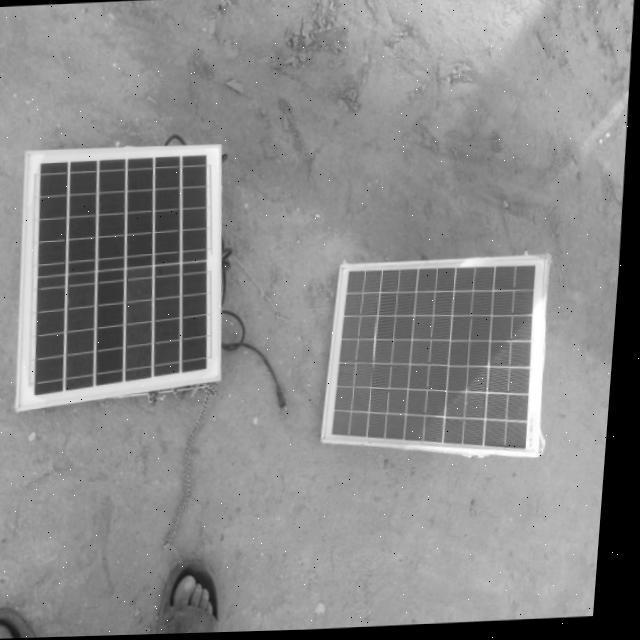Normal Solar Panel: (15, 143, 238, 409), (326, 256, 555, 465)
